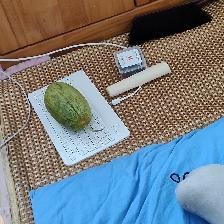gua: (39, 80, 87, 140)
